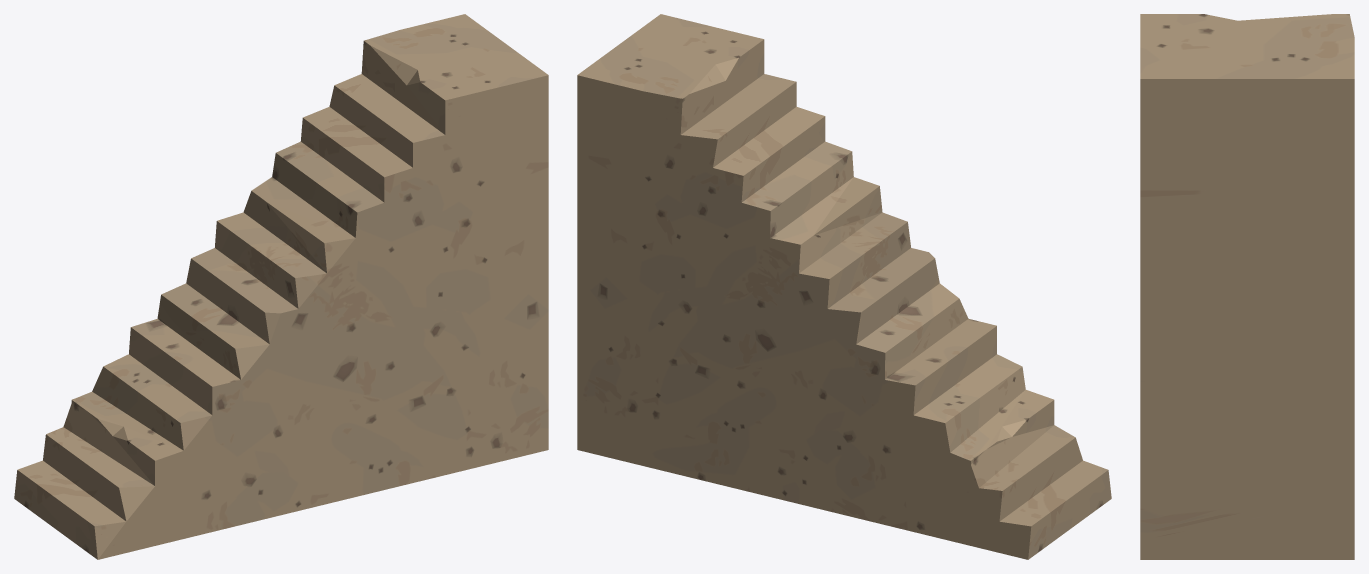
The model's file is SM_Bld_Stairs_Straight_02.fbx.
The picture shows the model from 3 angles, left to right: view 1: azimuth 30°, elevation 25°; view 2: azimuth 150°, elevation 25°; view 3: azimuth 270°, elevation 25°; orthographic projection. The views are drawn at different scales.
Parts seen in each view (by area): view 1: SM_Bld_Stairs_Straight_02; view 2: SM_Bld_Stairs_Straight_02; view 3: SM_Bld_Stairs_Straight_02.
Part boxes in pixels (x1,y1,x2,y2): SM_Bld_Stairs_Straight_02: (14,14,548,559); SM_Bld_Stairs_Straight_02: (577,14,1111,559); SM_Bld_Stairs_Straight_02: (1140,14,1354,559).
Size of the model in its own units: 374 by 297 by 120.
